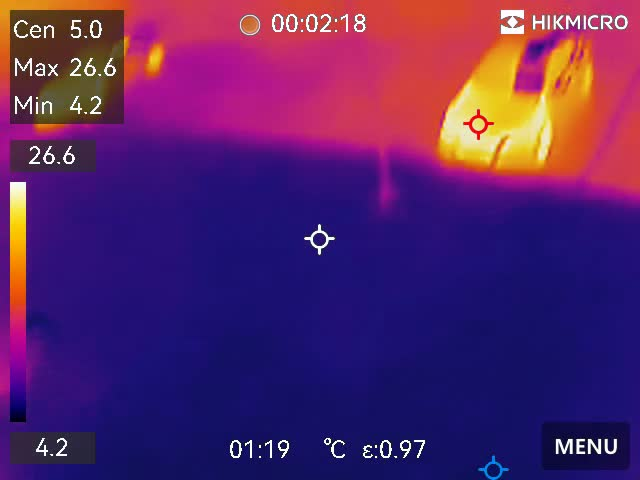smallCar: (423, 24, 595, 176)
